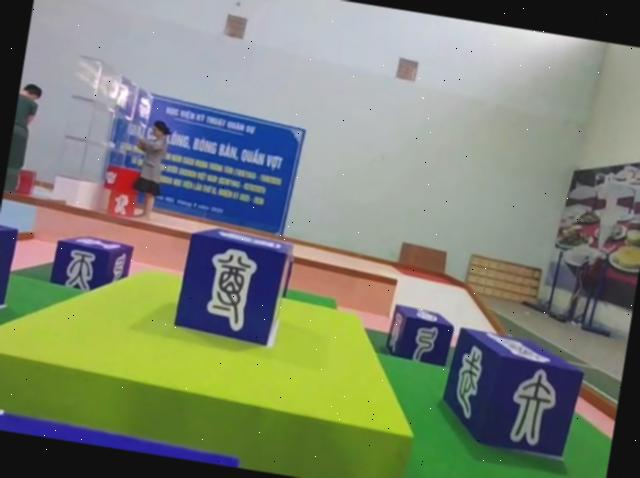R2 Fake Blue: (439, 329, 589, 465), (170, 226, 294, 352), (48, 233, 134, 300), (385, 304, 458, 368), (0, 222, 17, 335)
